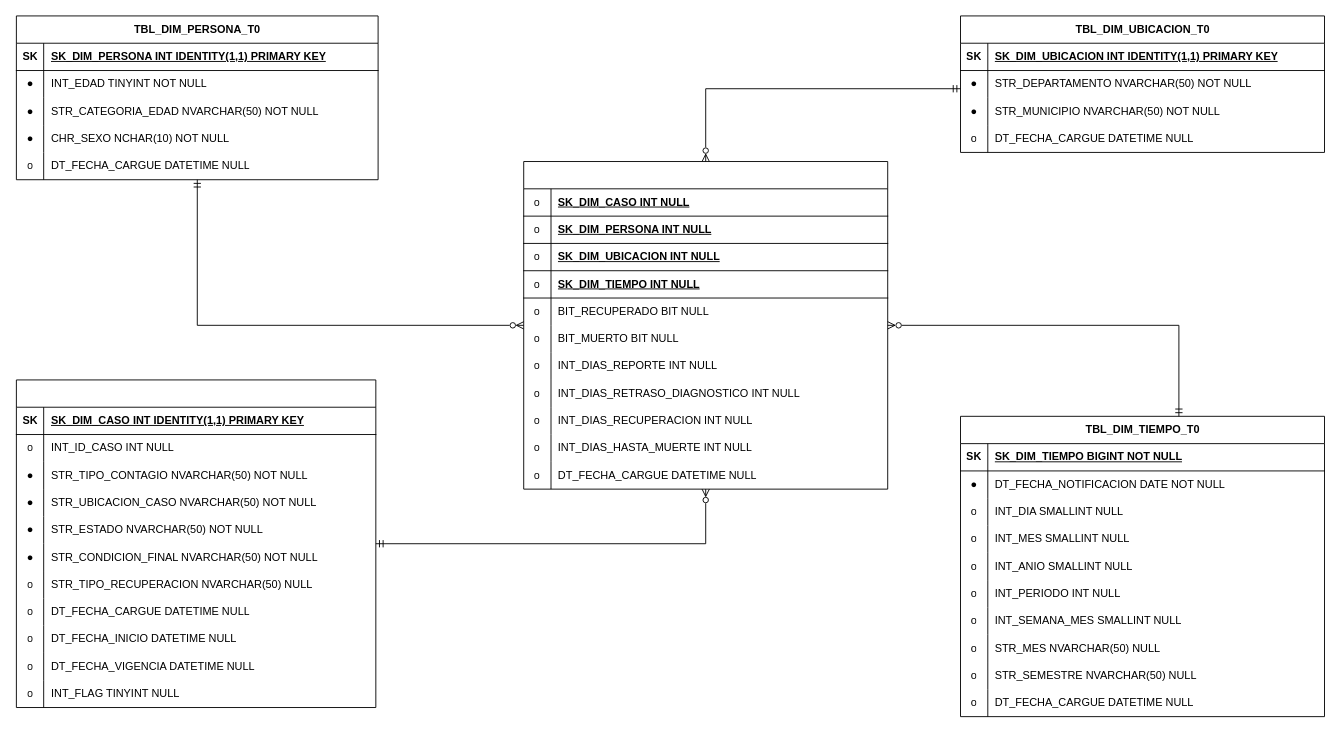
Some shapes in this 1340 by 733 pixel diagram are drawn without their labels. Here are the shapes that lost their labels. From the top down, the box of each, then its label:
(523, 161, 888, 489): TBL_FACT_CASOS
(15, 379, 376, 708): TBL_DIM_CASO_T2
